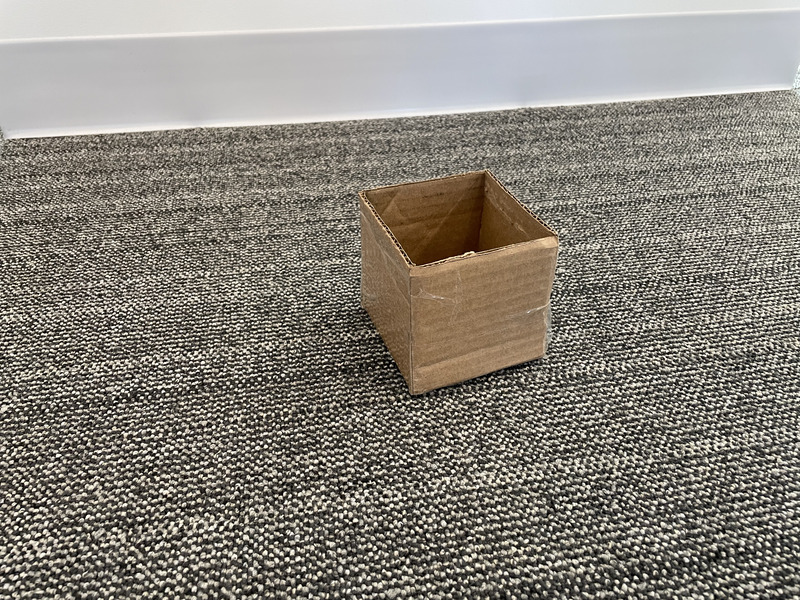payload3: (348, 164, 574, 402)
